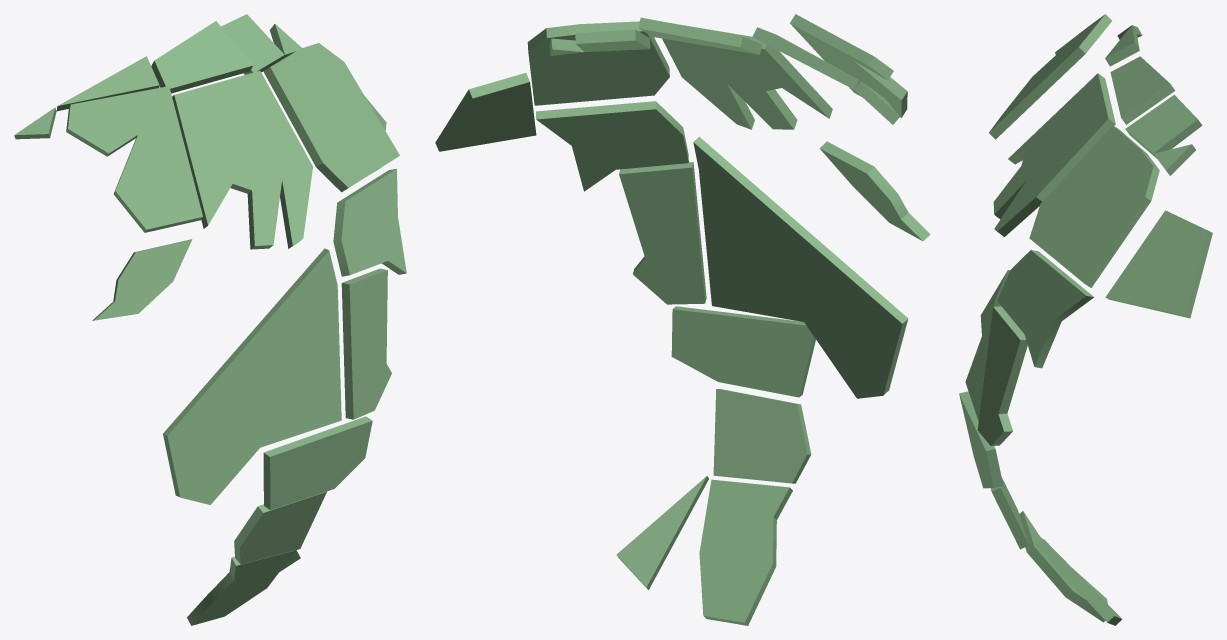
The model's file is Cont1.fbx.
3 views of the same model, side by side, from view 1: azimuth 30°, elevation 25°; view 2: azimuth 150°, elevation 25°; view 3: azimuth 270°, elevation 25° (orthographic). The views are drawn at different scales.
Parts seen in each view (by area): view 1: C1_Country11_GEO, C1_Country1_GEO, C1_Country6_GEO, C1_Country13_GEO, C1_Country9_GEO, C1_Country10_GEO, C1_Country12_GEO, C1_Country5_GEO, C1_Country3_GEO, C1_Country8_GEO, C1_Country7_GEO, C1_Country4_GEO (+1 smaller); view 2: C1_Country11_GEO, C1_Country3_GEO, C1_Country7_GEO, C1_Country9_GEO, C1_Country10_GEO, C1_Country1_GEO, C1_Country12_GEO, C1_Country13_GEO, C1_Country8_GEO, C1_Country6_GEO, C1_Country4_GEO, C1_Country5_GEO (+1 smaller); view 3: C1_Country13_GEO, C1_Country3_GEO, C1_Country1_GEO, C1_Country12_GEO, C1_Country10_GEO, C1_Country2_GEO, C1_Country6_GEO, C1_Country5_GEO, C1_Country7_GEO, C1_Country9_GEO, C1_Country11_GEO, C1_Country8_GEO (+1 smaller).
Part boxes in pixels (<box>): C1_Country11_GEO: <box>163,248,341,504</box>; C1_Country1_GEO: <box>172,71,312,249</box>; C1_Country6_GEO: <box>66,86,202,232</box>; C1_Country13_GEO: <box>263,43,399,192</box>; C1_Country9_GEO: <box>263,416,372,510</box>; C1_Country10_GEO: <box>341,268,391,419</box>; C1_Country12_GEO: <box>333,168,406,276</box>; C1_Country5_GEO: <box>151,21,253,93</box>; C1_Country3_GEO: <box>92,96,386,571</box>; C1_Country8_GEO: <box>234,491,326,564</box>; C1_Country7_GEO: <box>187,550,295,625</box>; C1_Country4_GEO: <box>14,56,159,139</box>; C1_Country11_GEO: <box>693,136,908,398</box>; C1_Country3_GEO: <box>435,73,930,589</box>; C1_Country7_GEO: <box>699,479,792,625</box>; C1_Country9_GEO: <box>671,306,815,397</box>; C1_Country10_GEO: <box>619,162,706,304</box>; C1_Country1_GEO: <box>662,23,832,129</box>; C1_Country12_GEO: <box>536,101,688,191</box>; C1_Country13_GEO: <box>527,21,669,105</box>; C1_Country8_GEO: <box>713,389,811,483</box>; C1_Country6_GEO: <box>790,14,907,117</box>; C1_Country4_GEO: <box>752,27,899,124</box>; C1_Country5_GEO: <box>638,17,761,54</box>; C1_Country13_GEO: <box>1029,125,1159,287</box>; C1_Country3_GEO: <box>1036,210,1212,625</box>; C1_Country1_GEO: <box>993,73,1115,236</box>; C1_Country12_GEO: <box>997,250,1093,368</box>; C1_Country10_GEO: <box>977,306,1027,445</box>; C1_Country2_GEO: <box>1125,94,1202,175</box>; C1_Country6_GEO: <box>989,14,1111,139</box>; C1_Country5_GEO: <box>1110,56,1175,124</box>; C1_Country7_GEO: <box>1019,511,1107,622</box>; C1_Country9_GEO: <box>959,391,1003,488</box>; C1_Country11_GEO: <box>965,270,1009,420</box>; C1_Country8_GEO: <box>990,477,1028,549</box>.
Bounding box in the file's own units: 729 × 991 × 414.
